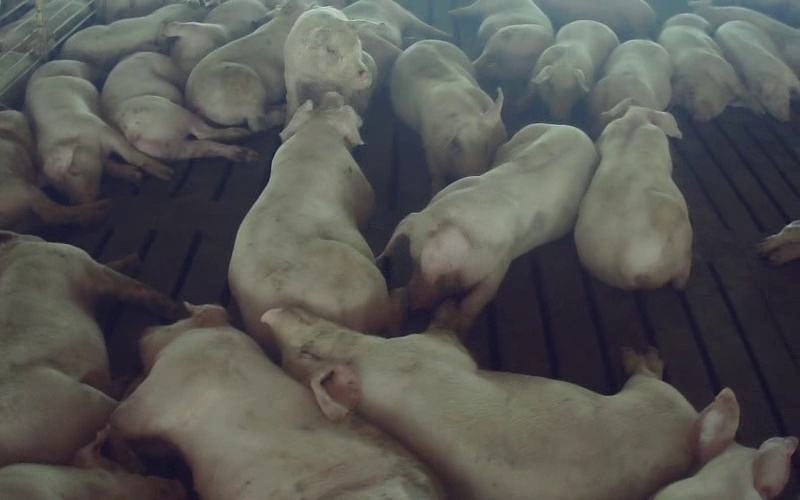pig: (263, 308, 697, 499), (112, 307, 440, 499), (383, 125, 597, 328), (575, 100, 691, 289), (25, 60, 170, 203), (390, 40, 506, 192), (101, 52, 255, 161), (284, 7, 382, 119), (658, 13, 759, 121), (521, 20, 618, 120), (61, 4, 205, 69), (342, 0, 448, 84), (714, 21, 799, 120), (450, 0, 553, 80), (590, 39, 672, 123)
